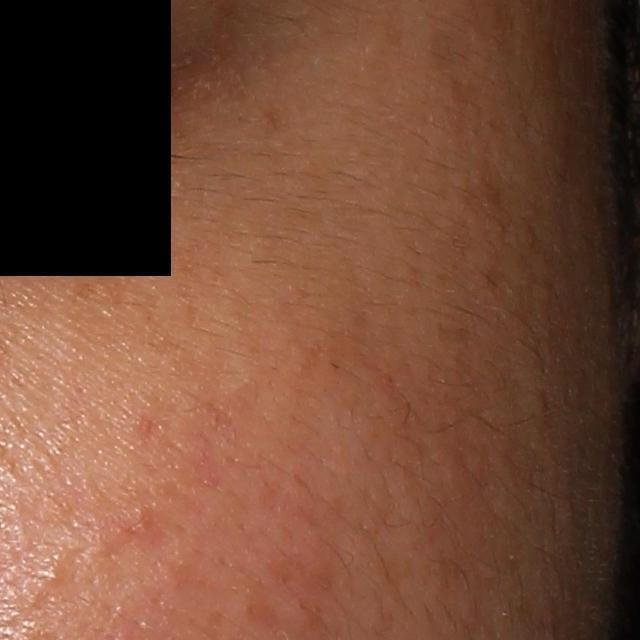comedo: (40, 565, 64, 588)
